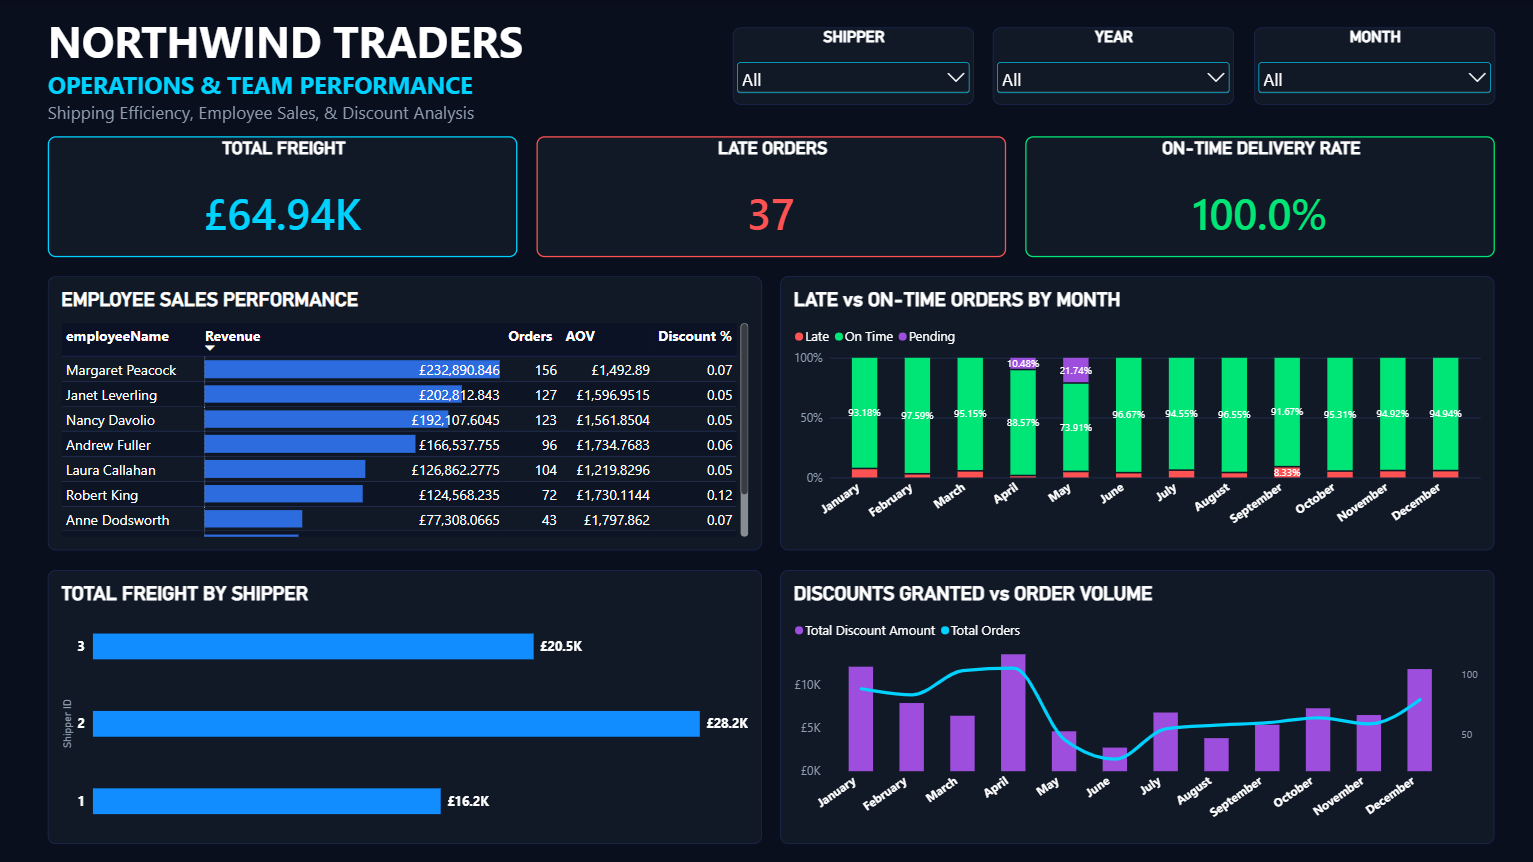

Layout of this report page (visuals, bound fields, positions):
{"tool":"powerbi","page":{"name":"Operations & Team Performance","canvas":[1920,1080],"ordinal":2},"visuals":[{"type":"cardVisual","title":"TOTAL FREIGHT","fields":{"Data":["_Measures.Total Freight"]},"box":[60,170,584,150],"z":0},{"type":"cardVisual","title":"LATE ORDERS","fields":{"Data":["_Measures.Late Orders"]},"box":[668,170,584,150],"z":1000},{"type":"cardVisual","title":"ON-TIME DELIVERY RATE","fields":{"Data":["_Measures.On-Time Delivery Rate"]},"box":[1276,170,584,150],"z":2000},{"type":"tableEx","title":"EMPLOYEE SALES PERFORMANCE","fields":{"Values":["employees.employeeName","_Measures.Total Revenue","_Measures.Total Orders","_Measures.AOV","_Measures.Discount %"]},"box":[60,344,888,341],"z":3000},{"type":"barChart","title":"TOTAL FREIGHT BY SHIPPER","fields":{"Category":["orders.shipperID"],"Y":["_Measures.Total Freight"]},"box":[60,709,888,341],"z":4000},{"type":"hundredPercentStackedColumnChart","title":"LATE vs ON-TIME ORDERS BY MONTH","fields":{"Category":["Calendar.Month"],"Series":["orders.Delivery Performance"],"Y":["_Measures.Total Orders"]},"box":[972,344,888,341],"z":5000},{"type":"textbox","box":[60,14,820,142],"z":6000},{"type":"lineClusteredColumnComboChart","title":"DISCOUNTS GRANTED vs ORDER VOLUME","fields":{"Category":["Calendar.Month"],"Y":["_Measures.Total Discount Amount"],"Y2":["_Measures.Total Orders"]},"box":[972,709,888,341],"z":7000},{"type":"slicer","title":"SHIPPER","fields":{"Values":["orders.shipperID"]},"box":[912,34,300,96],"z":8000},{"type":"slicer","title":"YEAR","fields":{"Values":["Calendar.Year"]},"box":[1236,34,300,96],"z":9000},{"type":"slicer","title":"MONTH","fields":{"Values":["Calendar.Month"]},"box":[1560,34,300,96],"z":10000}]}

Visuals, with their boxes in screenshot pixels (x1, y1, x2, y2), scaled from the page's 1920x1080 canvas onto the 1533x862 screenshot:
"TOTAL FREIGHT" cardVisual: BBox(48, 136, 514, 255)
"LATE ORDERS" cardVisual: BBox(533, 136, 1000, 255)
"ON-TIME DELIVERY RATE" cardVisual: BBox(1019, 136, 1485, 255)
"EMPLOYEE SALES PERFORMANCE" tableEx: BBox(48, 275, 757, 547)
"TOTAL FREIGHT BY SHIPPER" barChart: BBox(48, 566, 757, 838)
"LATE vs ON-TIME ORDERS BY MONTH" hundredPercentStackedColumnChart: BBox(776, 275, 1485, 547)
textbox: BBox(48, 11, 703, 125)
"DISCOUNTS GRANTED vs ORDER VOLUME" lineClusteredColumnComboChart: BBox(776, 566, 1485, 838)
"SHIPPER" slicer: BBox(728, 27, 968, 104)
"YEAR" slicer: BBox(987, 27, 1226, 104)
"MONTH" slicer: BBox(1246, 27, 1485, 104)
